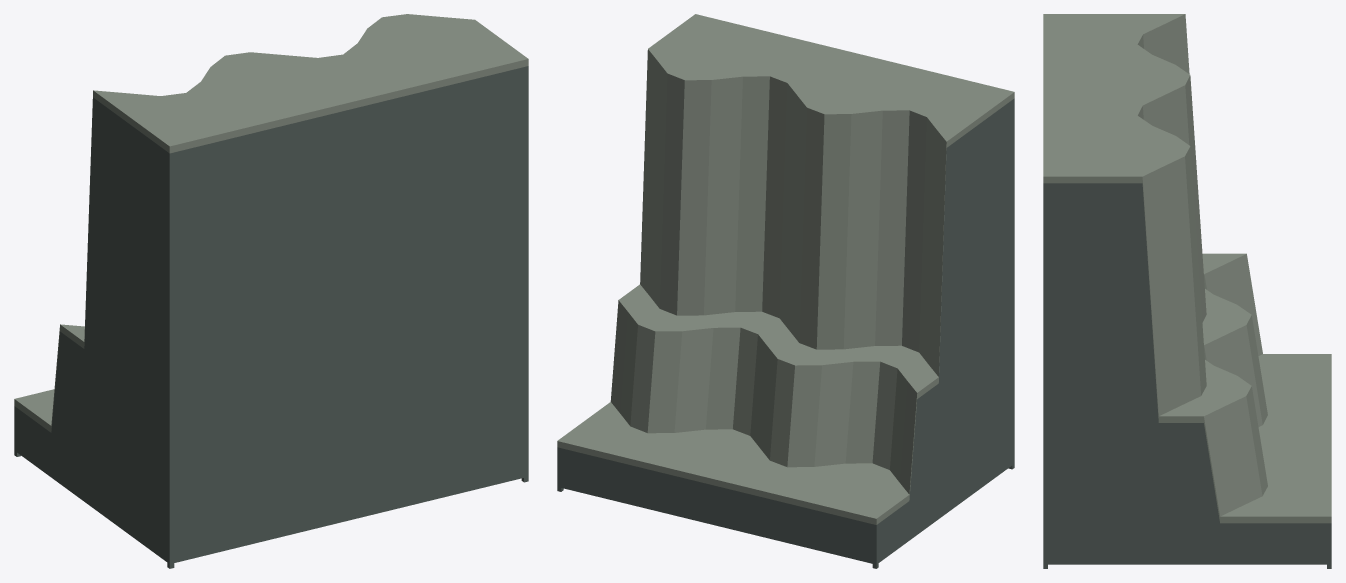
The picture shows the model from 3 angles, left to right: view 1: azimuth 30°, elevation 25°; view 2: azimuth 150°, elevation 25°; view 3: azimuth 270°, elevation 25°; orthographic projection. The views are drawn at different scales.
Parts seen in each view (by area): view 1: 崖壁内外转折与台阶边缘族; view 2: 崖壁内外转折与台阶边缘族; view 3: 崖壁内外转折与台阶边缘族.
Boxes of the visible parts, x1=… form: 崖壁内外转折与台阶边缘族: x1=14, y1=14, x2=528, y2=568; 崖壁内外转折与台阶边缘族: x1=557, y1=14, x2=1014, y2=568; 崖壁内外转折与台阶边缘族: x1=1043, y1=14, x2=1331, y2=568.
Bounding box in the file's own units: 16 × 18 × 12.
2 materials, 2 textured.
